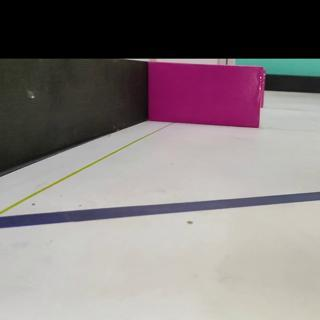xparking: (155, 67, 263, 125)
